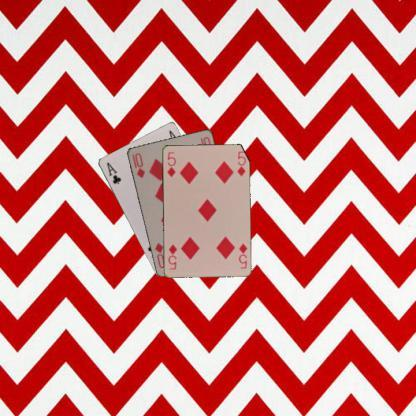10d: (130, 150, 146, 179)
5d: (164, 149, 176, 179), (236, 240, 248, 270)
Ac: (103, 160, 122, 186)
